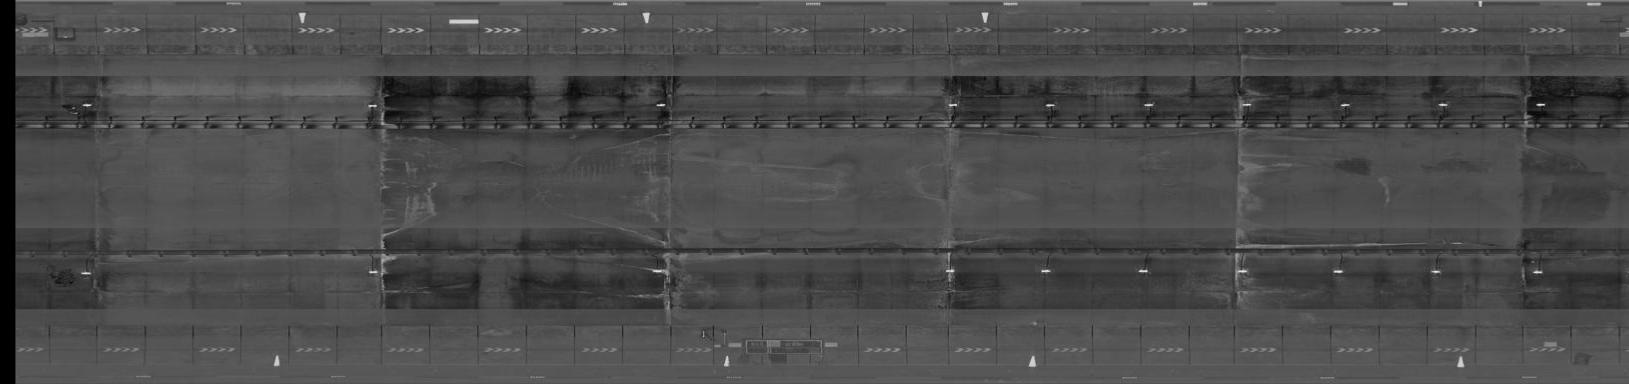light: (1424, 265, 1444, 278), (1035, 264, 1054, 277), (1428, 99, 1451, 110), (360, 266, 383, 277), (1042, 97, 1060, 111), (938, 265, 962, 275), (643, 265, 667, 275), (1235, 100, 1256, 111), (1524, 267, 1546, 277), (1530, 100, 1549, 111), (364, 101, 382, 112), (1333, 100, 1353, 110), (1138, 100, 1157, 110), (1231, 266, 1251, 276), (78, 99, 96, 110), (76, 268, 94, 279), (942, 100, 961, 110), (1134, 265, 1152, 275), (652, 99, 667, 111), (1328, 267, 1347, 275), (1623, 265, 1629, 277), (1628, 99, 1629, 110)
